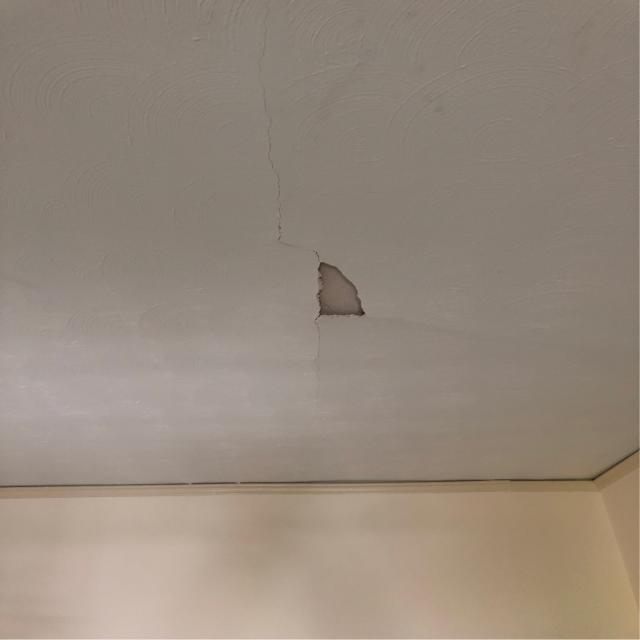Crack: (252, 5, 321, 262), (312, 263, 368, 408)
